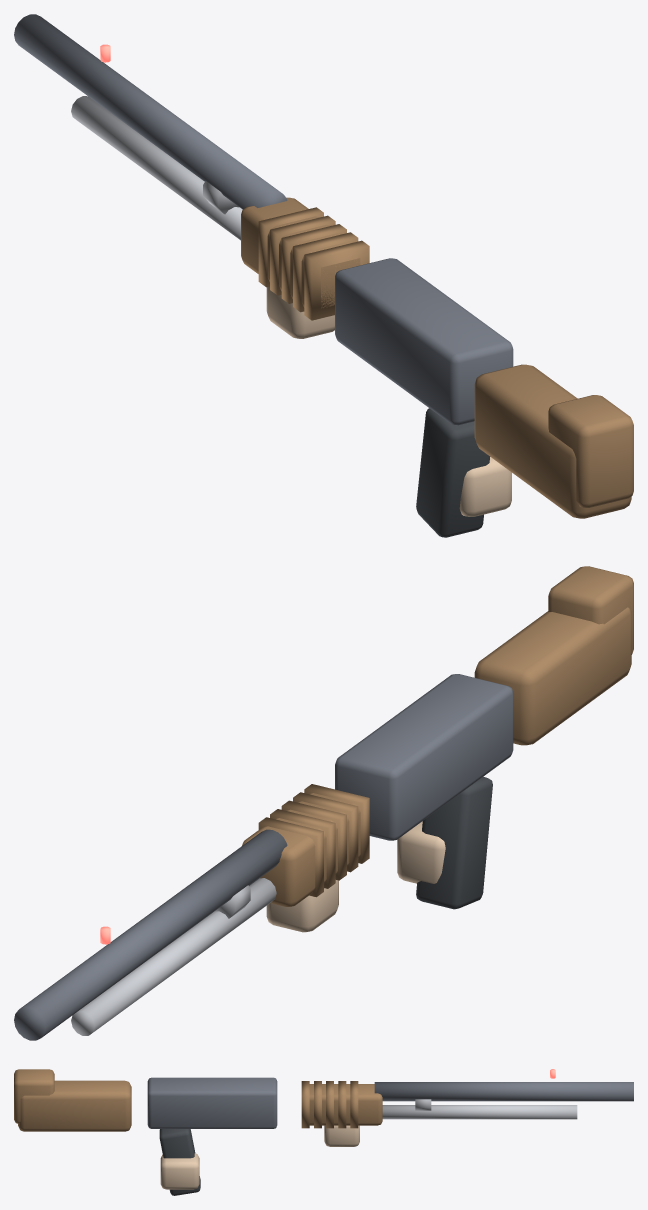
Rendered from shotgun.glb.
3 views of the same model, one above another, from view 1: azimuth 30°, elevation 25°; view 2: azimuth 150°, elevation 25°; view 3: azimuth 270°, elevation 25° (orthographic). The views are drawn at different scales.
Visible parts, largest first — view 1: WeaponMesh, Mag; view 2: WeaponMesh, Mag; view 3: WeaponMesh, Mag.
Boxes of the visible parts, bbox=[...] form: WeaponMesh: bbox=[14, 14, 633, 537]; Mag: bbox=[241, 197, 360, 308]; WeaponMesh: bbox=[14, 566, 633, 1040]; Mag: bbox=[242, 793, 360, 906]; WeaponMesh: bbox=[14, 1069, 633, 1195]; Mag: bbox=[309, 1084, 382, 1125].
Bounding box in the file's own units: 0.057 × 0.1653 × 0.765.
